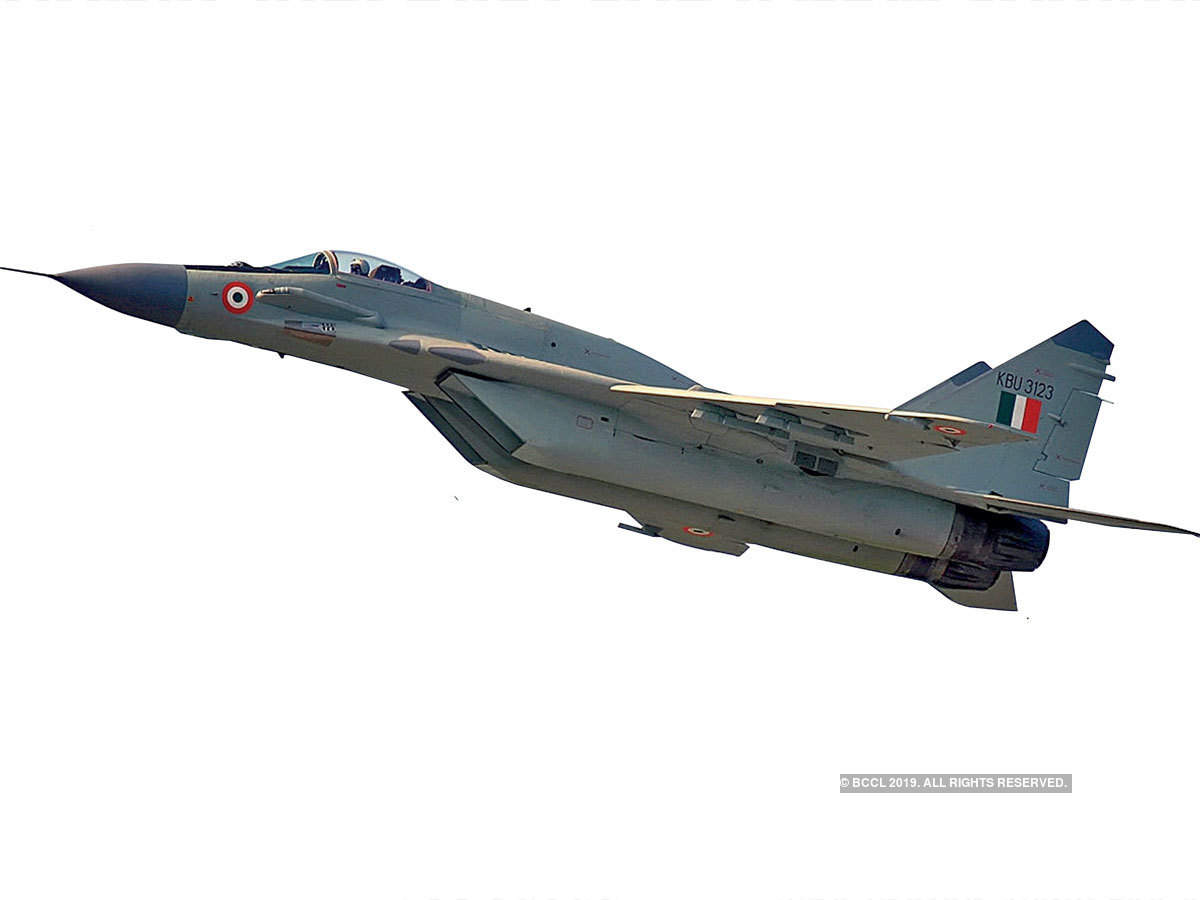Mig-29: (26, 175, 1180, 657)
